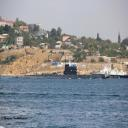submarine: (14, 65, 108, 79)
